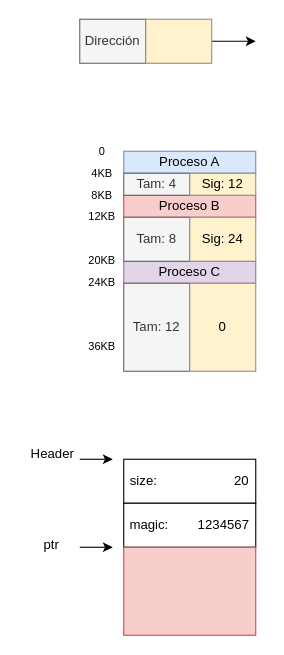
Image size: 284x655. Some labels were removed from this diagram. The box of each missing label's shape, as (x1, y1, x2, y2) in pixels:
20 bytes reservados: (123, 546, 256, 635)
Largo: (145, 18, 212, 63)
